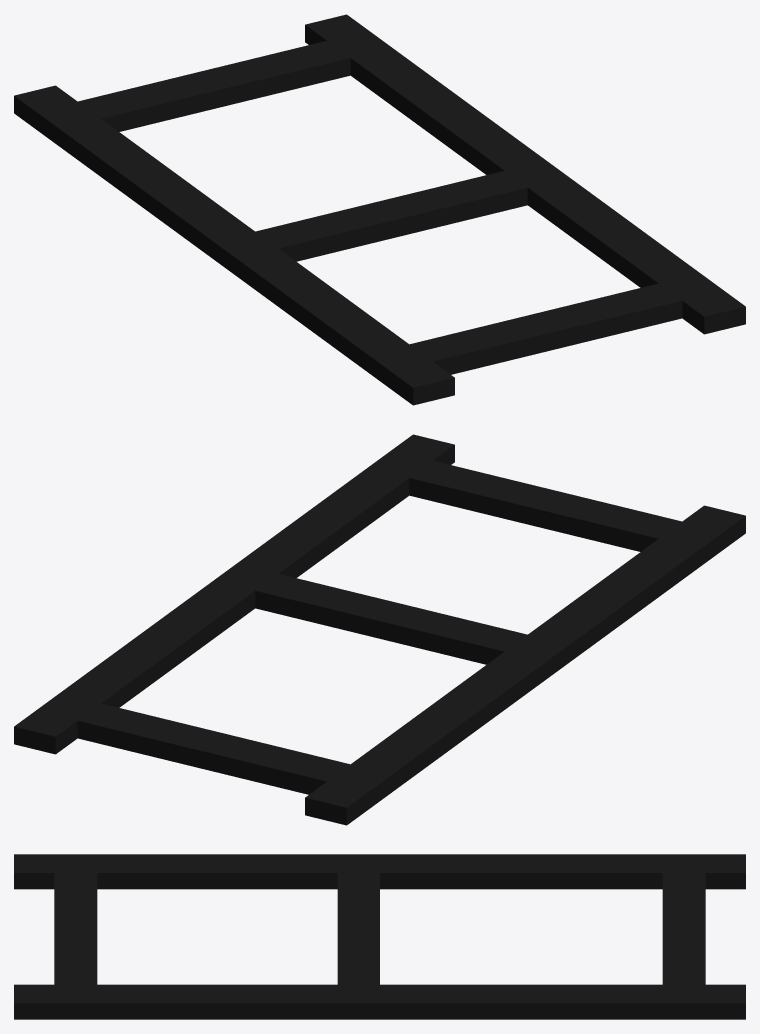
Rendered from BarrelLauncher.fbx.
3 views of the same model, one above another, from view 1: azimuth 30°, elevation 25°; view 2: azimuth 150°, elevation 25°; view 3: azimuth 270°, elevation 25° (orthographic). The views are drawn at different scales.
Parts seen in each view (by area): view 1: BarrelLauncher; view 2: BarrelLauncher; view 3: BarrelLauncher.
Part boxes in pixels (<box>): BarrelLauncher: <box>14,14,745,405</box>; BarrelLauncher: <box>14,434,745,825</box>; BarrelLauncher: <box>14,854,745,1019</box>.
Size of the model in its own units: 0.686 by 0.0349 by 1.42.
